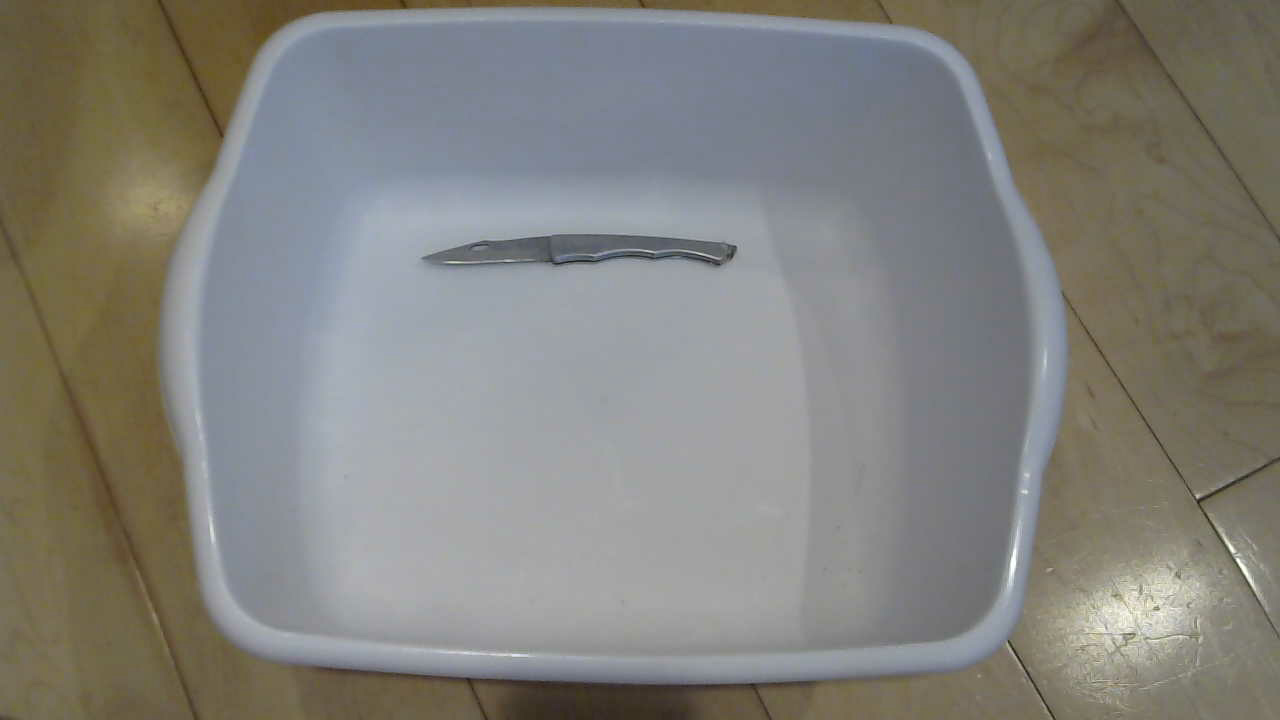knife: (383, 213, 758, 318)
